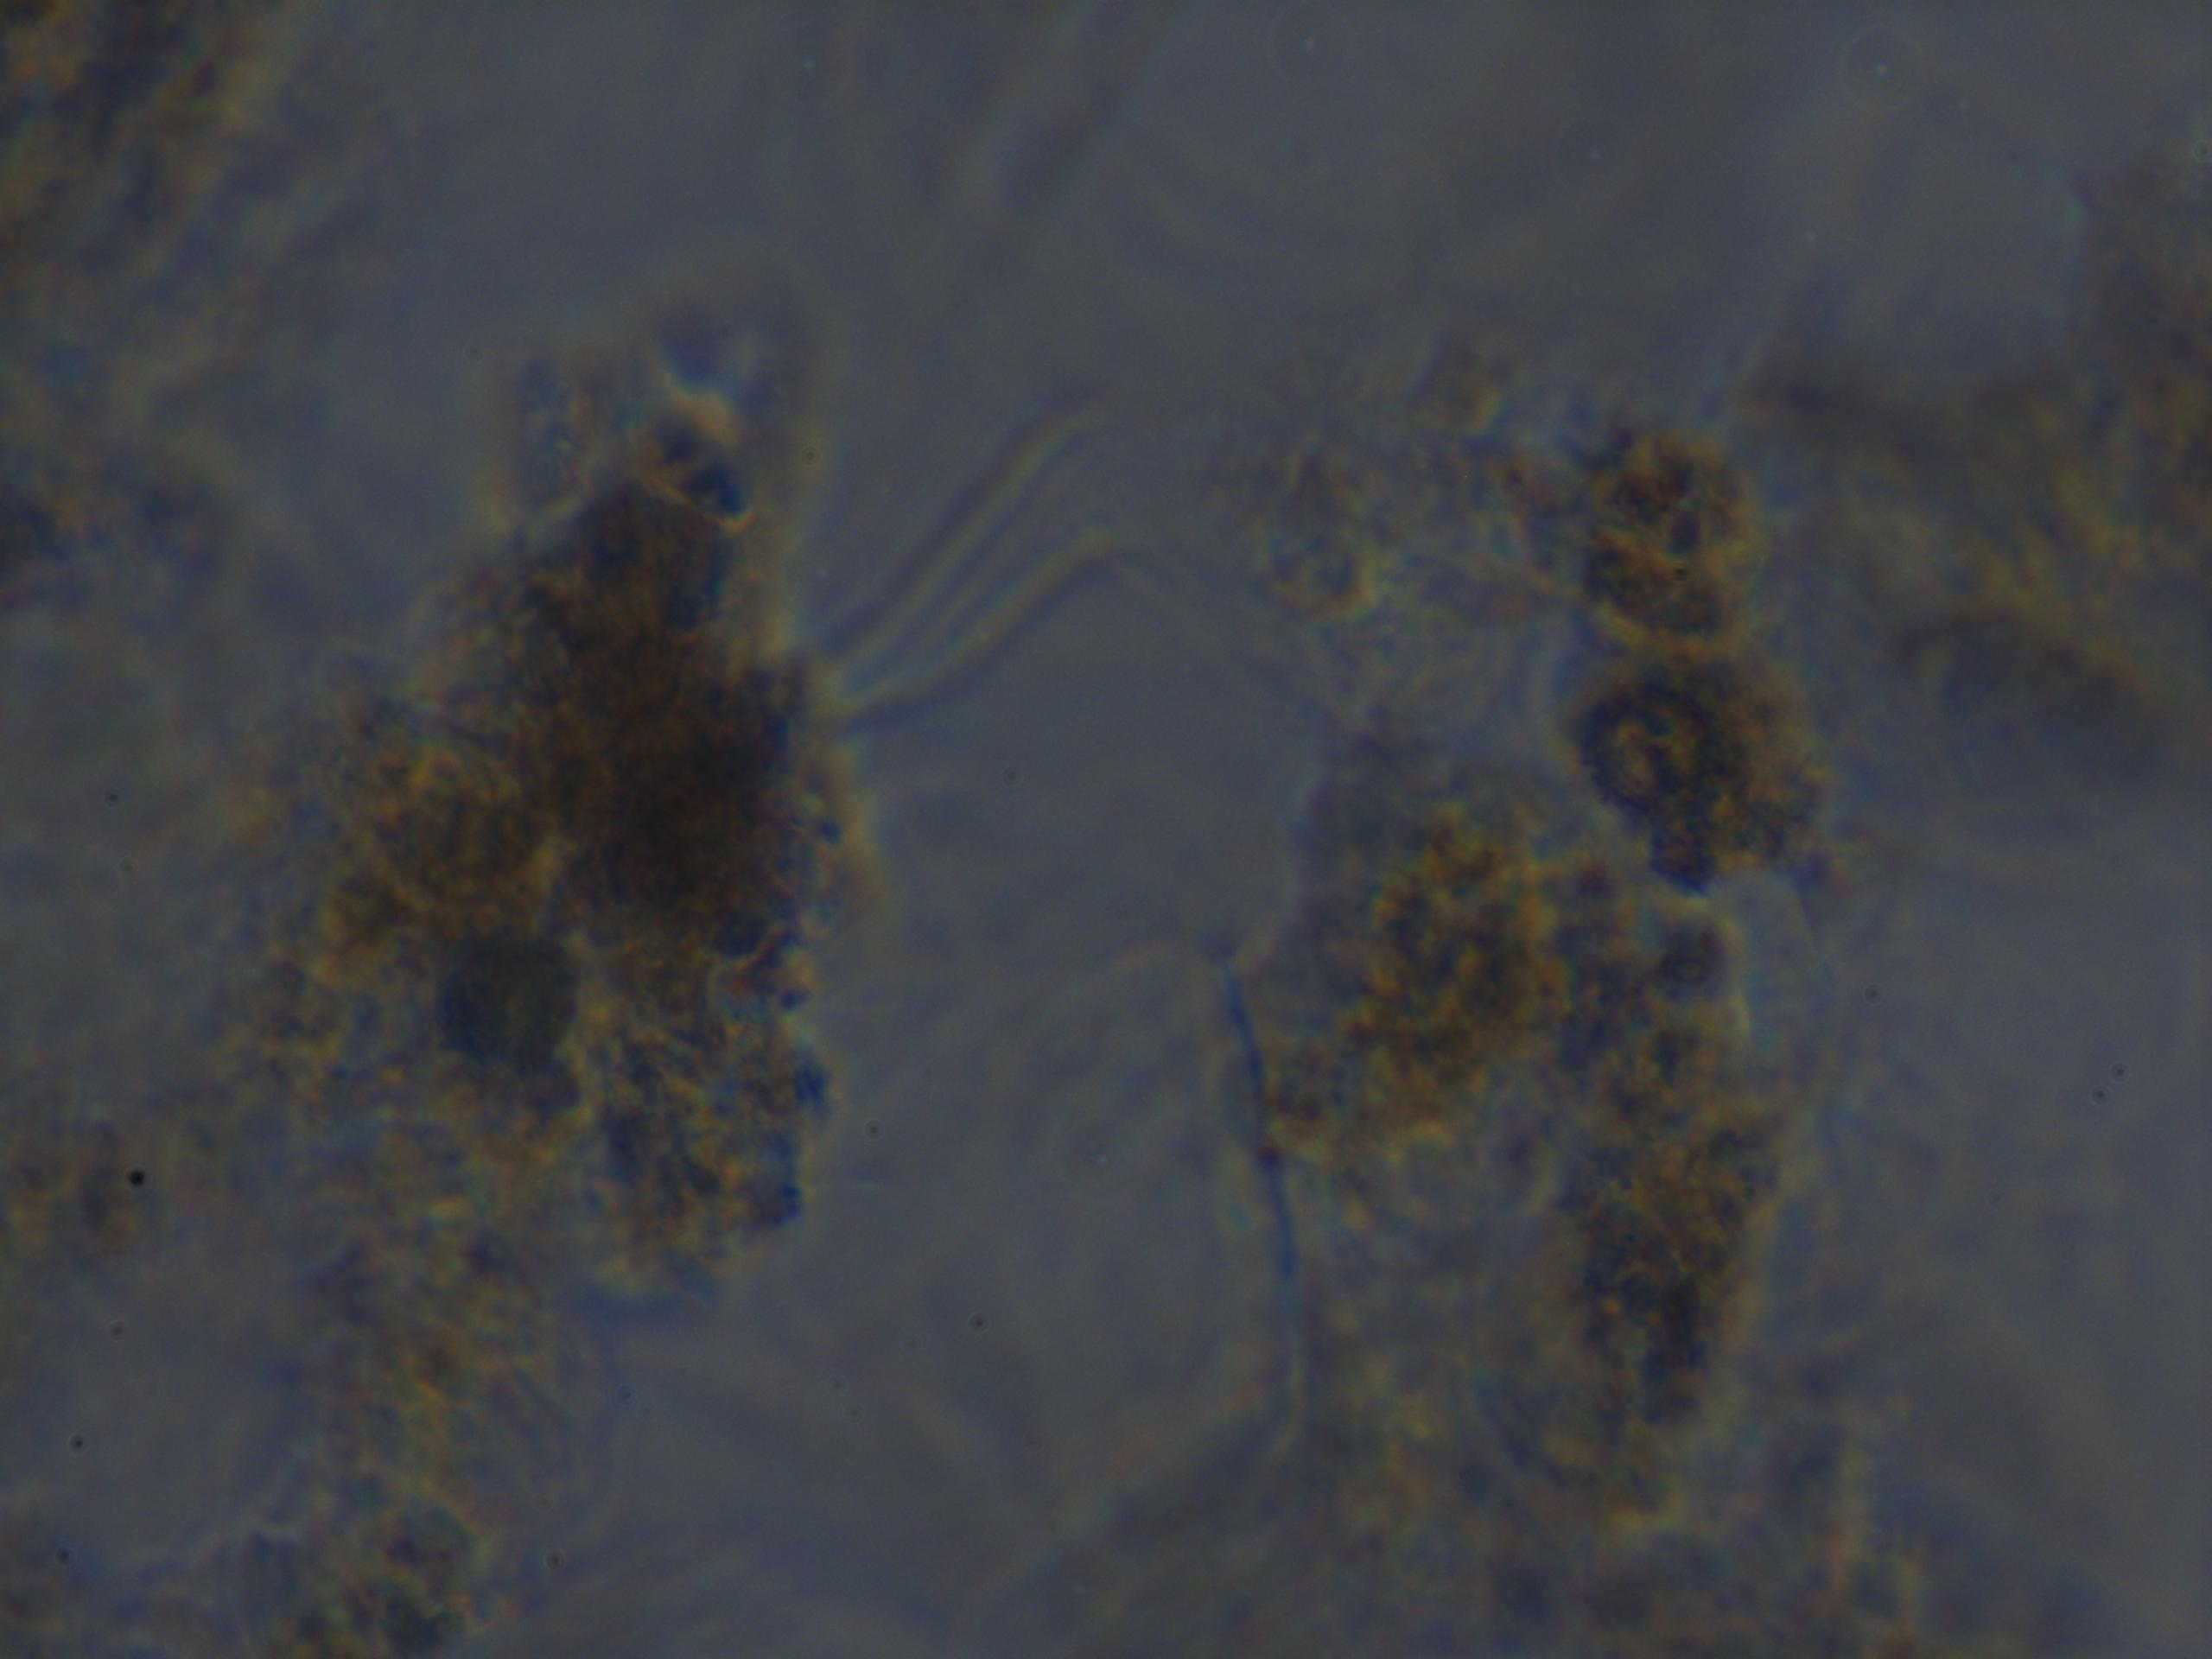filament: (824, 390, 1177, 744)
